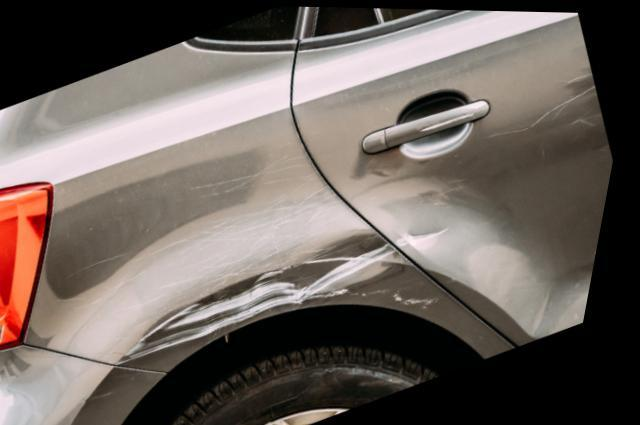dent: (288, 231, 406, 295), (413, 224, 457, 247)
rub: (128, 146, 375, 366), (487, 64, 616, 154)
